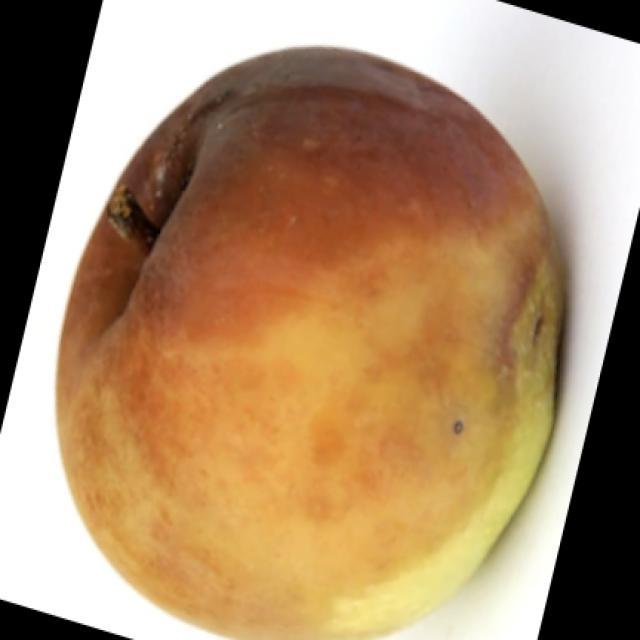Rotten: (84, 50, 574, 640)
